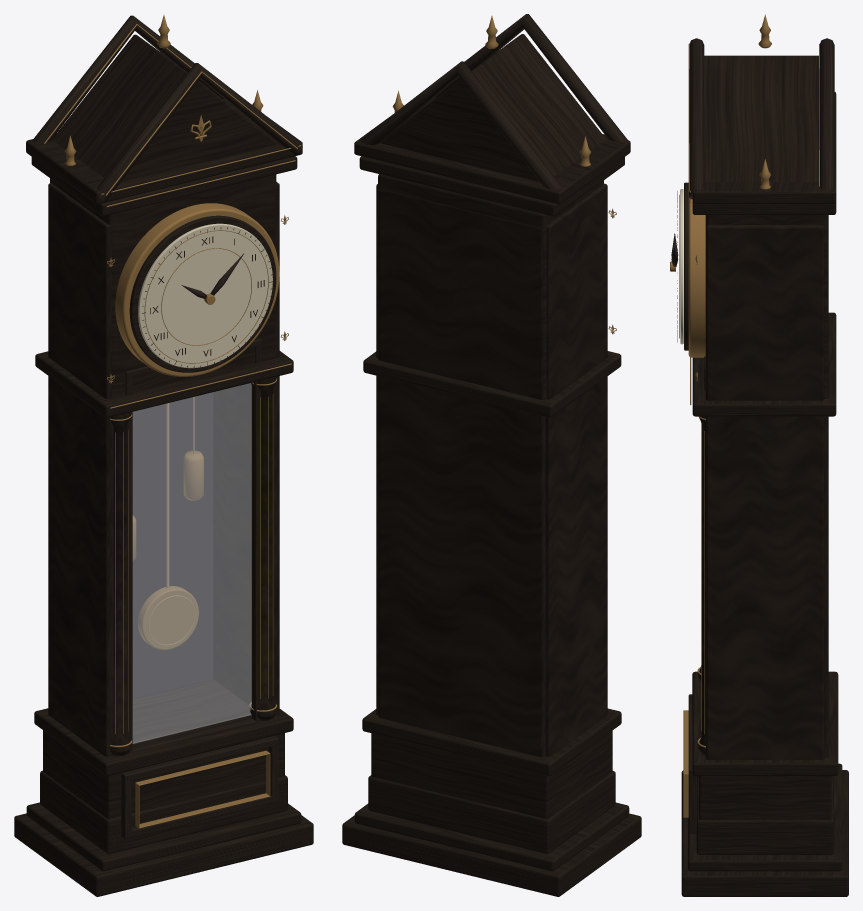
File: gotico_relogio_assombrado.glb
3 views of the same model, side by side, from view 1: azimuth 30°, elevation 25°; view 2: azimuth 150°, elevation 25°; view 3: azimuth 270°, elevation 25° (orthographic).
Parts seen in each view (by area): view 1: relogio_assombrado; view 2: relogio_assombrado; view 3: relogio_assombrado.
Boxes of the visible parts, left/top/right/bottom form: relogio_assombrado: left=14, top=15, right=313, bottom=896; relogio_assombrado: left=342, top=14, right=641, bottom=896; relogio_assombrado: left=670, top=14, right=848, bottom=896.
Size of the model in its own units: 0.59 by 2.14 by 0.417.
Materials: 8 (2 with a texture image).
